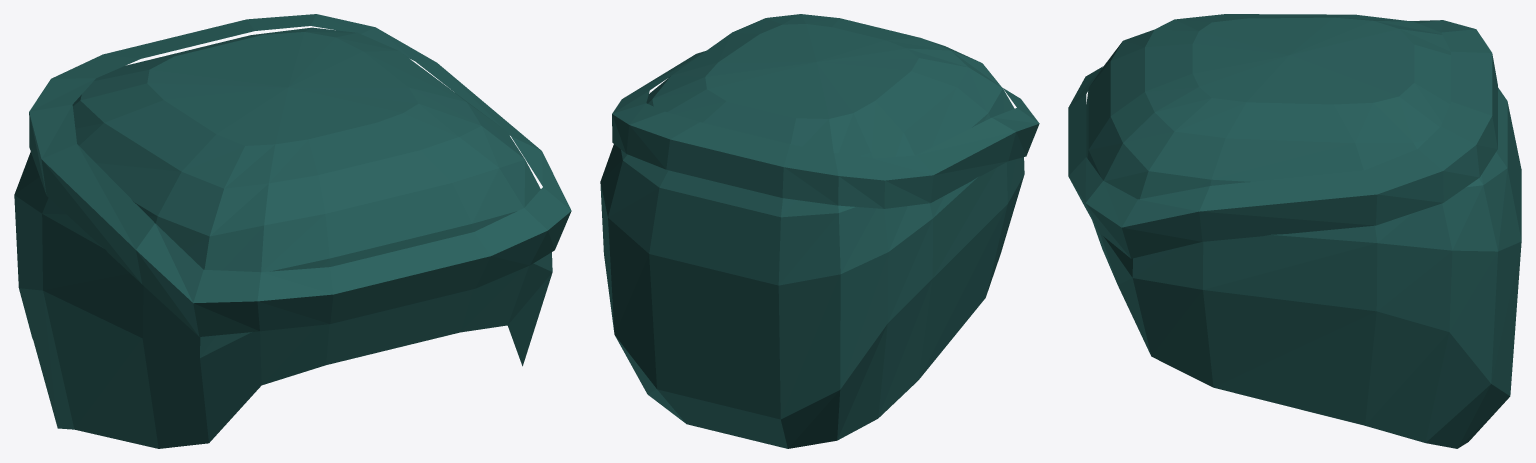
The model's file is headwear-turban.high.95f72a43.glb.
3 views of the same model, side by side, from view 1: azimuth 30°, elevation 25°; view 2: azimuth 150°, elevation 25°; view 3: azimuth 270°, elevation 25° (orthographic). The views are drawn at different scales.
Visible parts, largest first — view 1: headwear-turban; view 2: headwear-turban; view 3: headwear-turban.
Part boxes in pixels (bbox=[...]): headwear-turban: bbox=[14, 14, 571, 448]; headwear-turban: bbox=[600, 14, 1039, 448]; headwear-turban: bbox=[1068, 14, 1521, 448].
Size of the model in its own units: 0.2409 by 0.2279 by 0.261.
